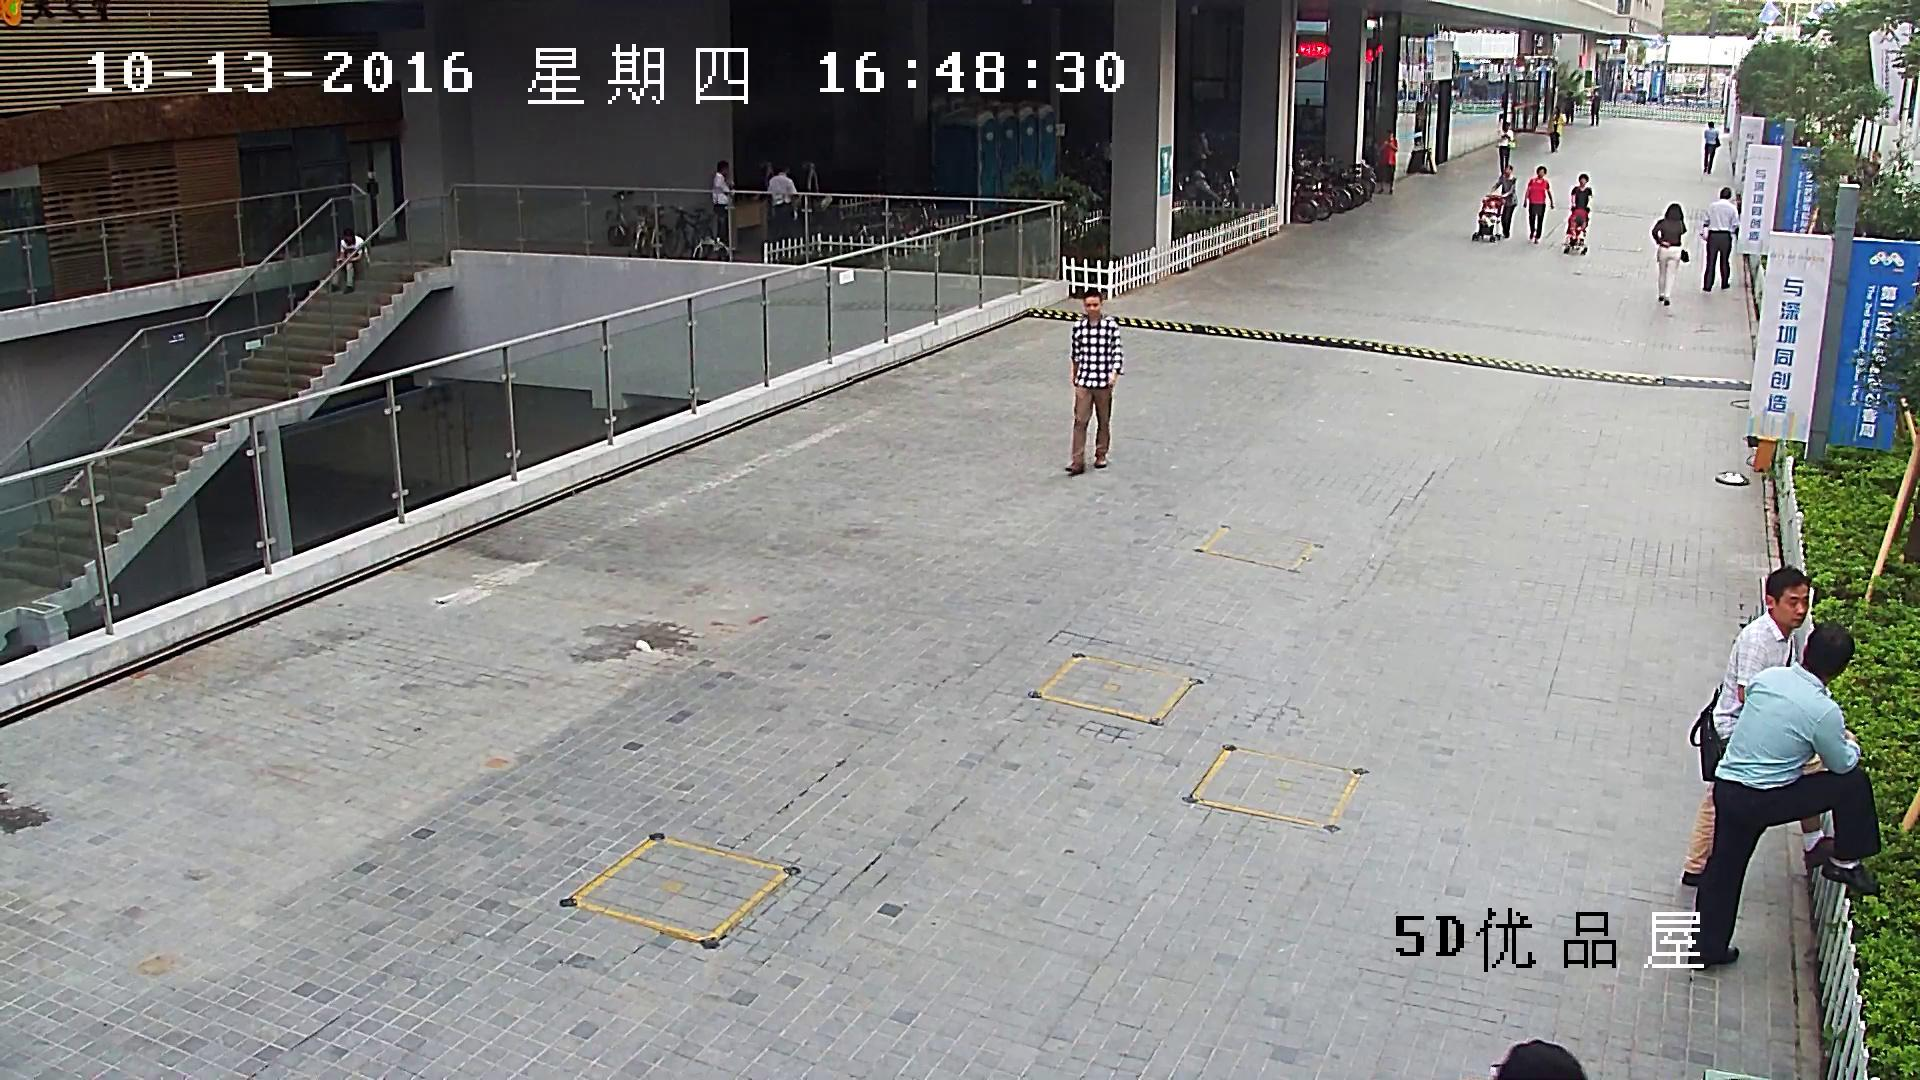person: (1688, 621, 1882, 970), (1681, 564, 1830, 886), (1064, 289, 1123, 473), (1703, 186, 1739, 291), (1651, 203, 1688, 306), (1471, 165, 1517, 242), (330, 228, 370, 295), (1563, 173, 1592, 255), (1523, 166, 1553, 244), (768, 163, 797, 239), (1489, 165, 1517, 238), (713, 160, 733, 247), (1377, 130, 1398, 194), (1570, 174, 1592, 226), (1496, 123, 1515, 174), (1704, 122, 1720, 173), (1549, 105, 1562, 153), (1481, 197, 1500, 226), (1863, 152, 1881, 179), (1570, 215, 1586, 244), (1563, 91, 1575, 124), (1590, 94, 1600, 125)
